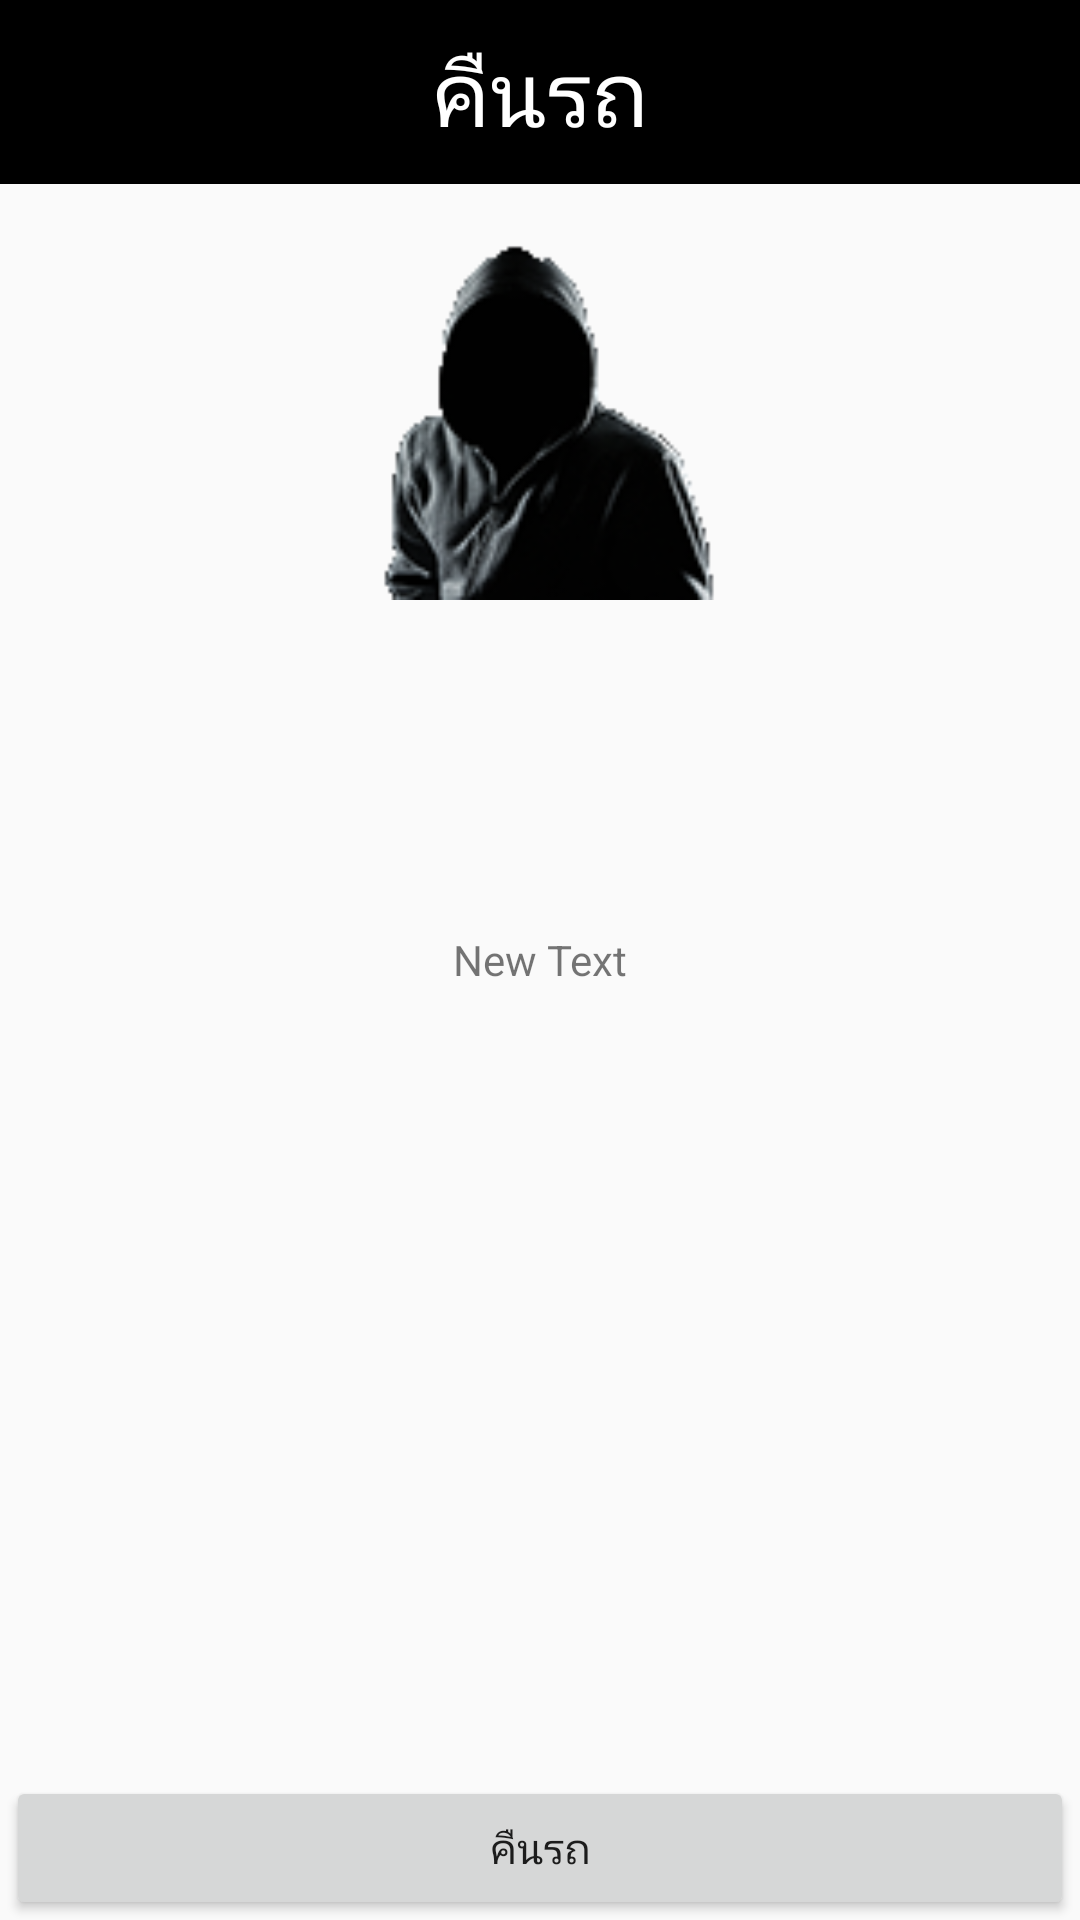

Icon bounding boxes for this 1080 x 1920 phone screenshot, format (x1,y1,x2,y2):
user: (384,246,714,600)
